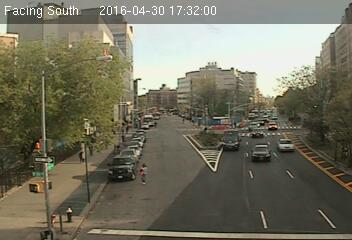neg: (73, 176, 92, 202), (54, 199, 73, 224), (90, 46, 107, 69), (22, 176, 37, 197), (120, 95, 134, 115), (201, 156, 215, 175), (34, 153, 48, 171), (218, 129, 231, 148), (78, 117, 90, 133), (127, 76, 139, 91), (200, 104, 208, 114), (165, 107, 172, 117)
pos: (135, 162, 152, 185), (75, 149, 87, 165), (122, 124, 131, 136), (152, 121, 159, 131), (233, 120, 240, 129), (181, 117, 187, 125)
